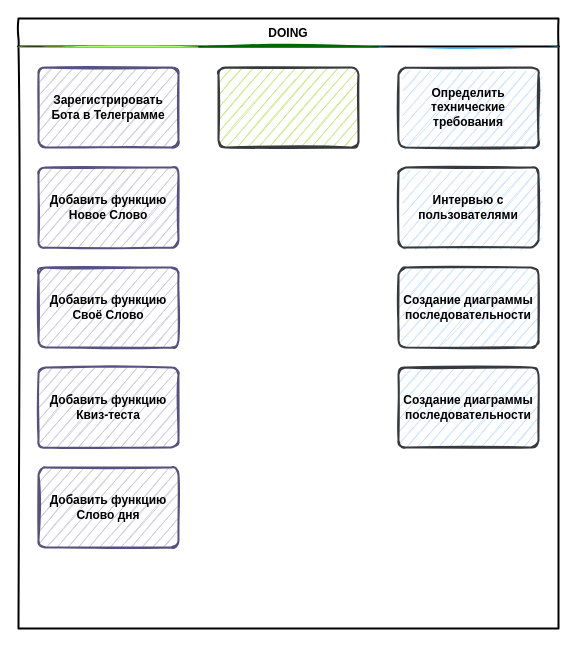
Image size: 576x646. Some labels were removed from this diagram. The shapes that lost their labels are listed below. From the top down, each one's box as (x1, y1, x2, y2) in pixels, then its label:
(217, 66, 359, 148): Разработка БД для телеграмм-бота
(18, 46, 198, 628): TO DO
(378, 46, 558, 628): DONE
